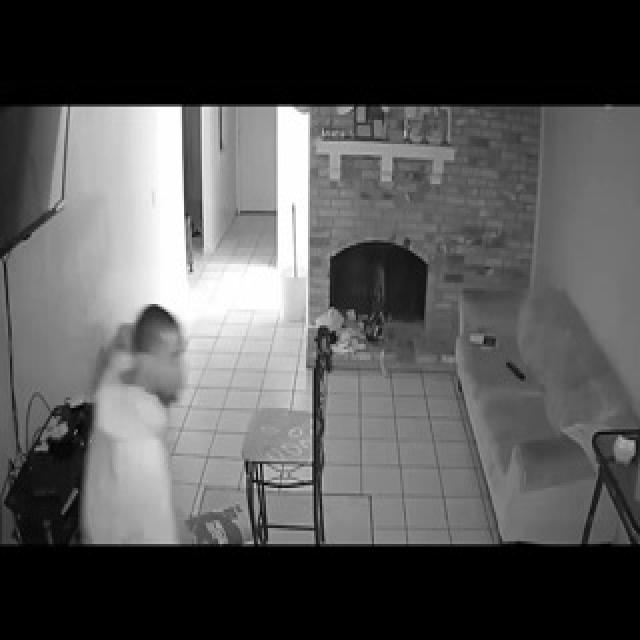thief: (113, 282, 197, 451)
